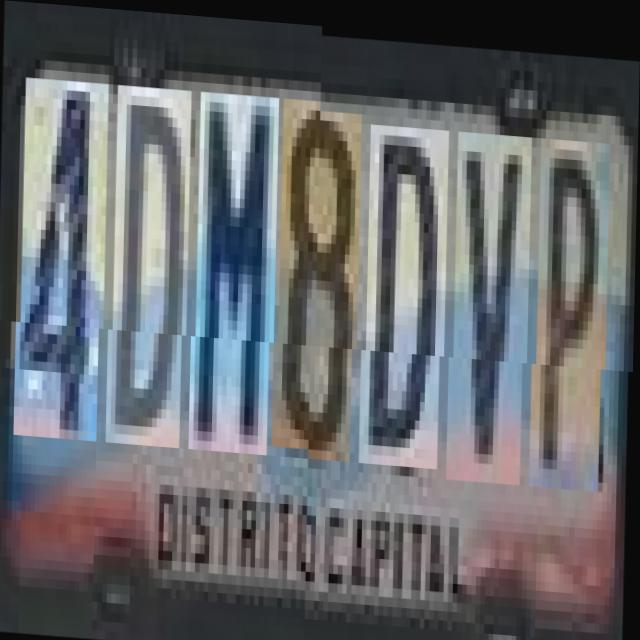4: (20, 87, 109, 450)
8: (278, 104, 362, 456)
D: (112, 92, 192, 454), (366, 118, 450, 462)
M: (194, 98, 280, 460)
P: (536, 129, 611, 481)
V: (453, 124, 533, 476)
